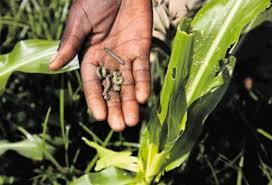fallarmy_worm: (101, 47, 130, 67), (101, 71, 112, 99)
